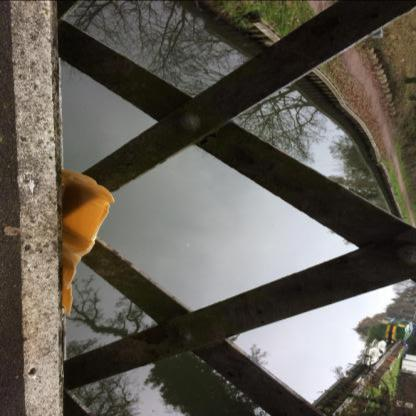Plastic container: (62, 169, 115, 316)
